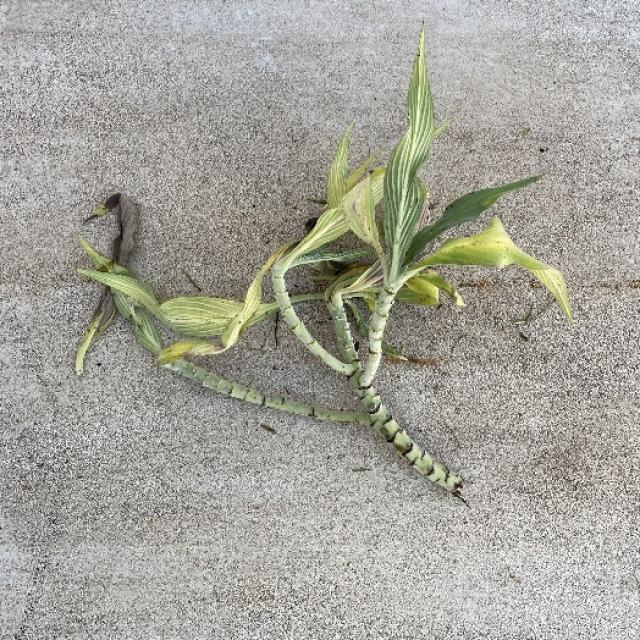organik: (77, 54, 579, 506)
